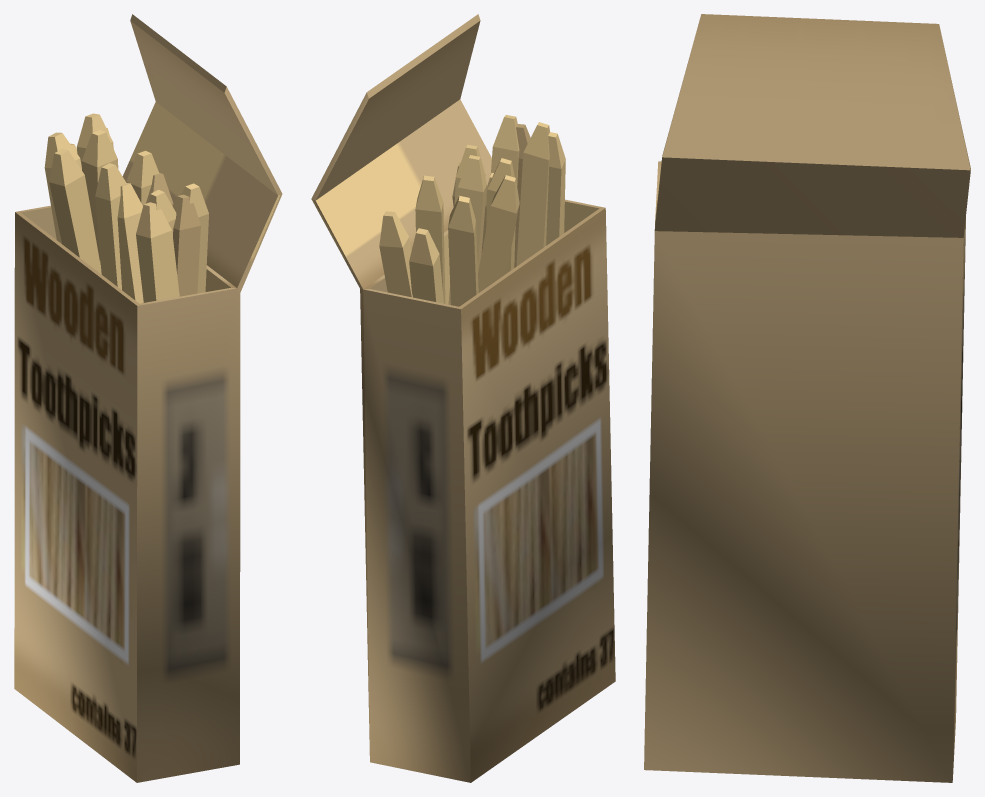
File: ToothpickBox.fbx
3 views of the same model, side by side, from view 1: azimuth 30°, elevation 25°; view 2: azimuth 150°, elevation 25°; view 3: azimuth 270°, elevation 25° (orthographic). The views are drawn at different scales.
Visible parts, largest first — view 1: Box; view 2: Box; view 3: Box.
Part boxes in pixels (x1,y1,x2,y2): Box: (14, 14, 282, 782); Box: (311, 14, 615, 782); Box: (644, 14, 970, 782).
Size of the model in its own units: 6.21 by 24.21 by 9.32.
